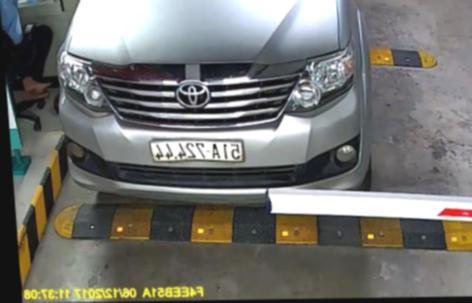License_Plate: (145, 136, 246, 167)
